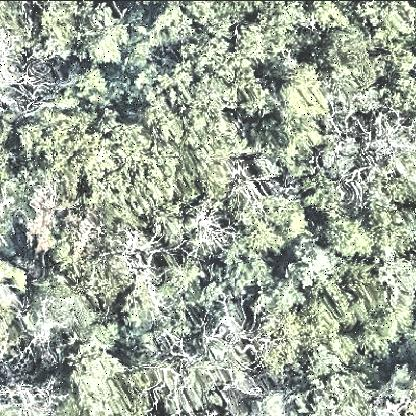tree-top: (152, 307, 245, 416), (79, 126, 175, 223), (60, 338, 148, 416), (68, 215, 156, 292), (175, 36, 255, 117), (172, 115, 246, 202), (270, 59, 330, 159), (250, 272, 305, 380), (25, 280, 100, 359), (193, 300, 265, 382), (319, 20, 383, 112), (308, 289, 368, 381), (46, 5, 130, 67), (234, 194, 308, 258), (251, 1, 317, 66), (2, 158, 46, 251), (1, 4, 41, 102), (18, 113, 89, 167), (1, 39, 54, 111), (361, 1, 416, 62), (305, 371, 377, 416), (218, 245, 278, 297), (291, 241, 345, 295), (140, 1, 196, 53), (2, 367, 60, 416), (321, 214, 377, 260), (2, 264, 26, 365), (375, 359, 416, 416), (182, 206, 228, 256), (243, 386, 289, 416)
